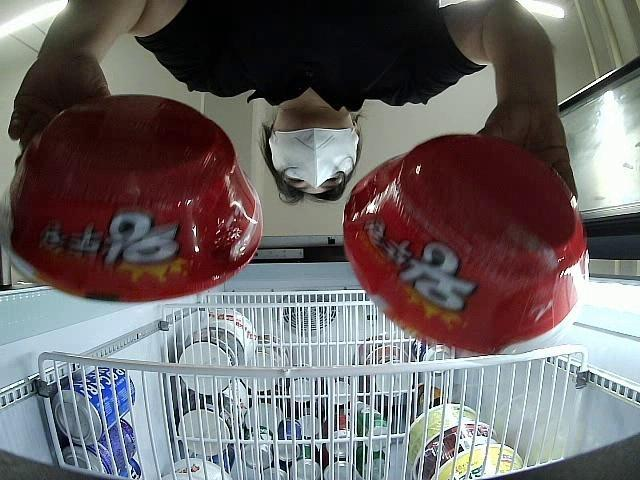10_wangTtukkeong: (0, 93, 265, 301), (342, 134, 588, 356)
